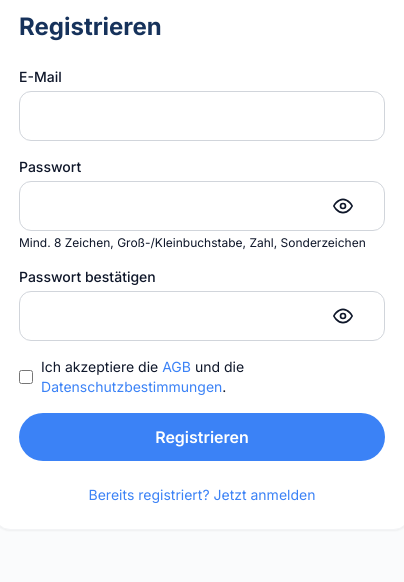
Test: RegisterForm › zeigt eine Fehlermeldung wenn die E-Mail-Adresse bereits vergeben ist
The width and height of the screenshot is (404, 582).
Type "test@example.com" into the field labelled "E-Mail" at coordinates (202, 116), box [19,91,385,141]
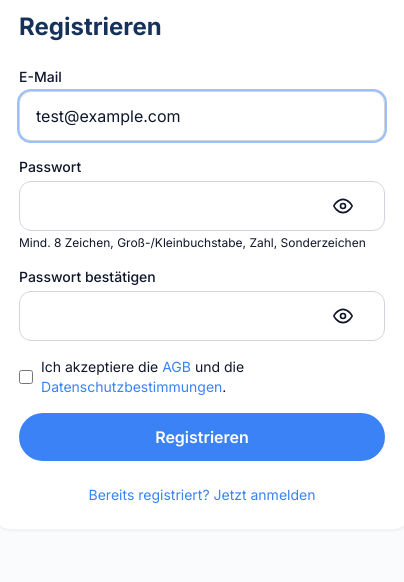
Type "Correct1!" into the password field labelled "Passwort" at coordinates (202, 206), box [19,181,385,231]
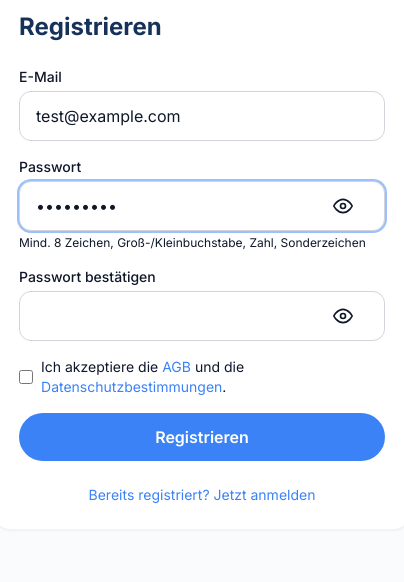
Type "Correct1!" into the password field labelled "Passwort bestätigen" at coordinates (202, 316), box [19,291,385,341]
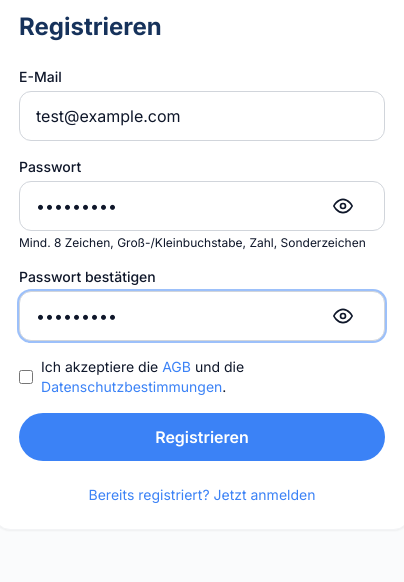
Click the checkbox at coordinates (26, 377), box [19,369,33,385]
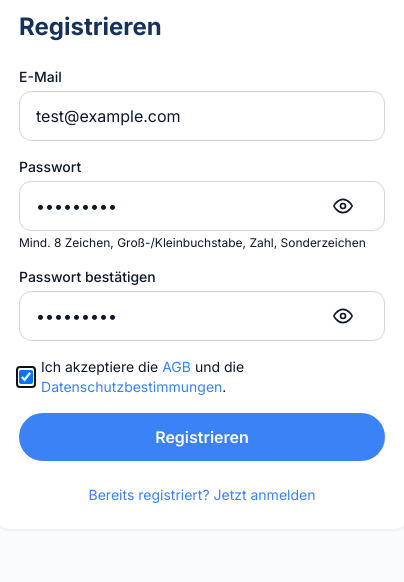
Click the button "Registrieren" at coordinates (202, 437), box [19,413,385,461]
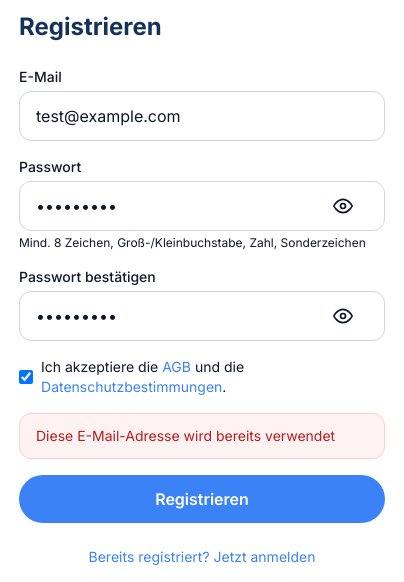
Result: the text "Diese E-Mail-Adresse wird bereits verwendet" is shown at [19,413,385,459]
